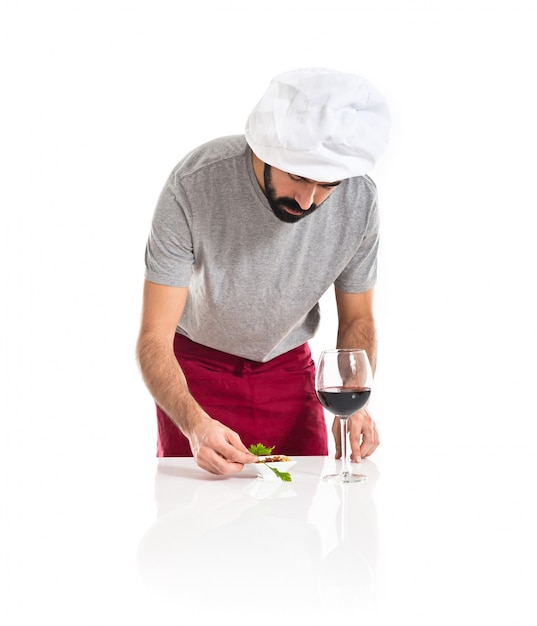alcohol: (313, 347, 375, 484)
